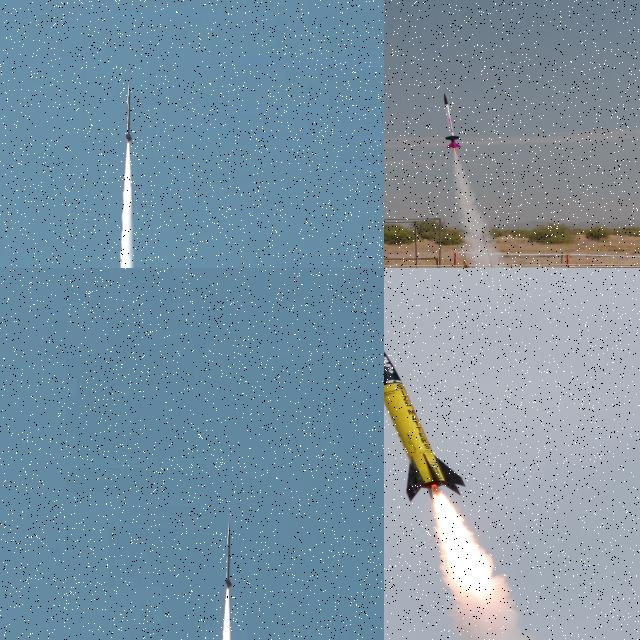Rocket: (384, 328, 467, 502), (443, 92, 462, 148), (224, 520, 233, 590), (125, 82, 132, 144), (462, 259, 477, 268)
